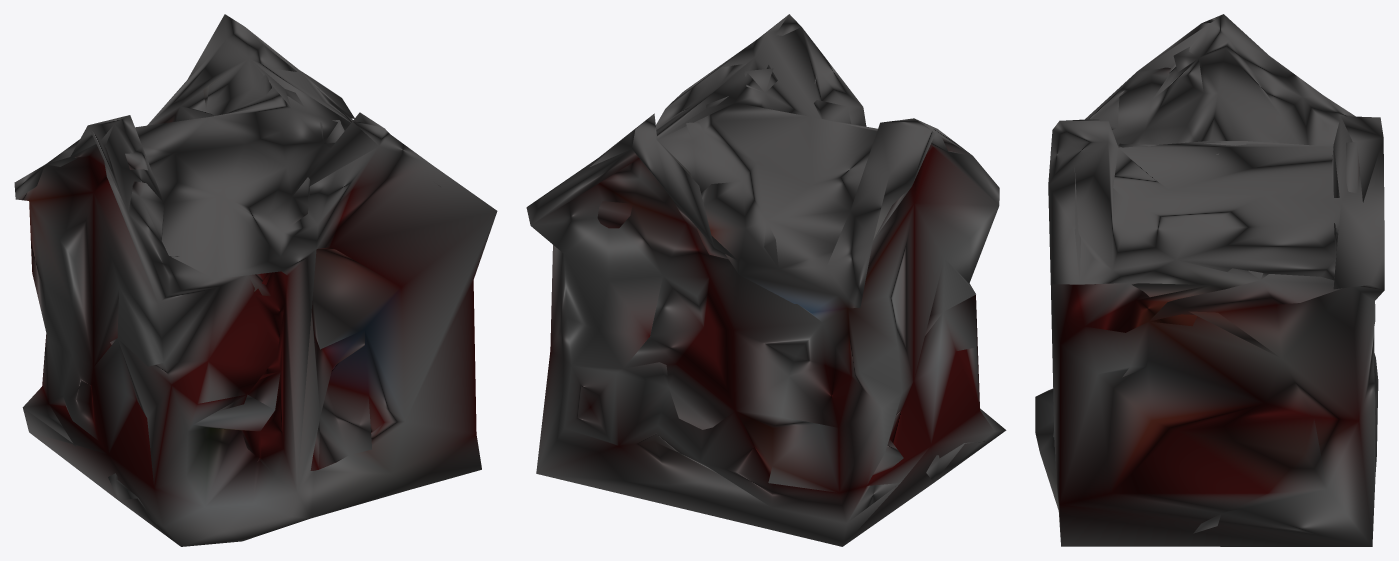
The model's file is gen3d-brick-townhouse-lod1.glb.
The picture shows the model from 3 angles, left to right: view 1: azimuth 30°, elevation 25°; view 2: azimuth 150°, elevation 25°; view 3: azimuth 270°, elevation 25°; orthographic projection. The views are drawn at different scales.
Visible parts, largest first — view 1: part_0; view 2: part_0; view 3: part_0.
Boxes of the visible parts, x1,y1,x2,y2 form: part_0: (14,14,497,546); part_0: (526,14,1006,546); part_0: (1035,14,1384,546).
Size of the model in its own units: 0.9234 by 0.9956 by 0.8276.
